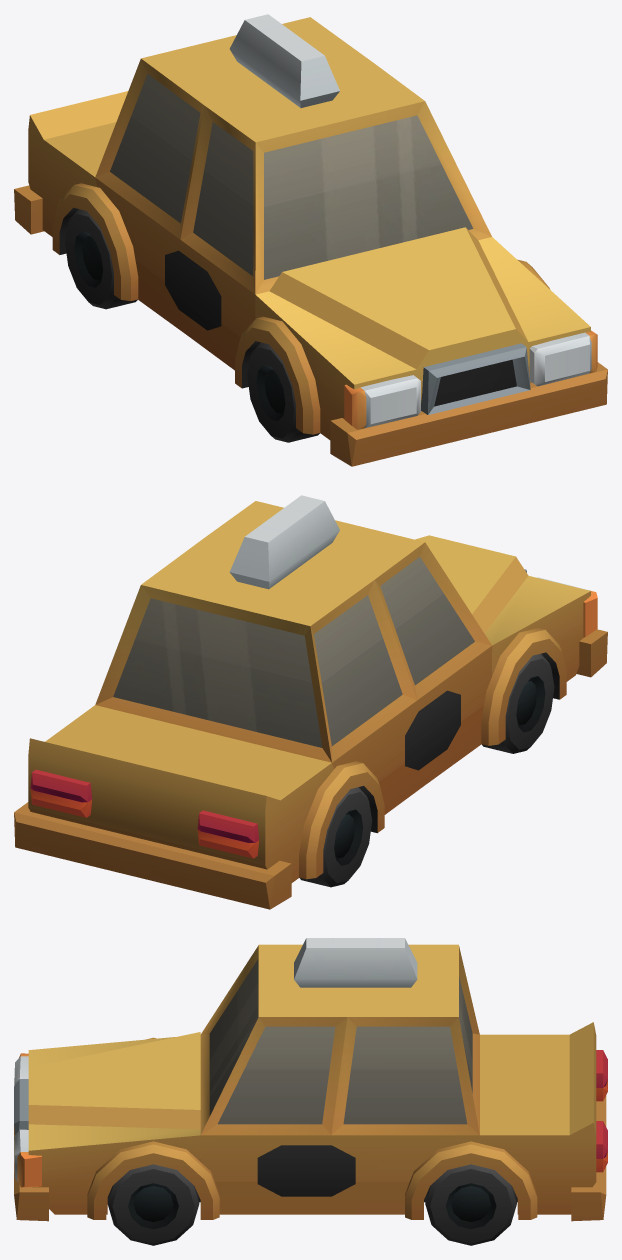
Rendered from car-taxi.glb.
3 renders of one model, top to bottom at view 1: azimuth 30°, elevation 25°; view 2: azimuth 150°, elevation 25°; view 3: azimuth 270°, elevation 25°, orthographic. The views are drawn at different scales.
Visible parts, largest first — view 1: car_taxi, car_taxi_wheel_rear_right, car_taxi_wheel_front_right; view 2: car_taxi, car_taxi_wheel_front_right, car_taxi_wheel_rear_right; view 3: car_taxi, car_taxi_wheel_front_left, car_taxi_wheel_rear_left.
Part boxes in pixels (x1,y1,x2,y2): car_taxi: (14, 14, 607, 466); car_taxi_wheel_rear_right: (65, 209, 137, 309); car_taxi_wheel_front_right: (247, 342, 319, 442); car_taxi: (14, 495, 607, 909); car_taxi_wheel_front_right: (482, 653, 554, 753); car_taxi_wheel_rear_right: (299, 787, 372, 887); car_taxi: (14, 938, 607, 1221); car_taxi_wheel_front_left: (107, 1164, 199, 1245); car_taxi_wheel_rear_left: (425, 1164, 516, 1245).
Size of the model in its own units: 0.419 by 0.4345 by 0.9381.
Materials: 1 (1 with a texture image).
